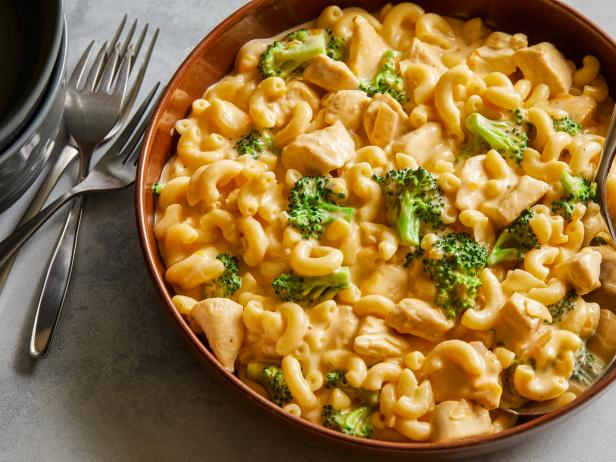cheese: (188, 39, 243, 213), (299, 95, 418, 153), (439, 25, 543, 90)
